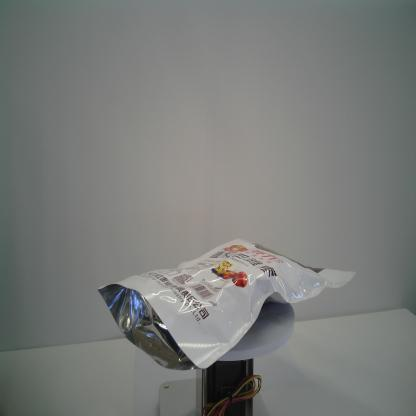Dried Food: (94, 235, 359, 376)
